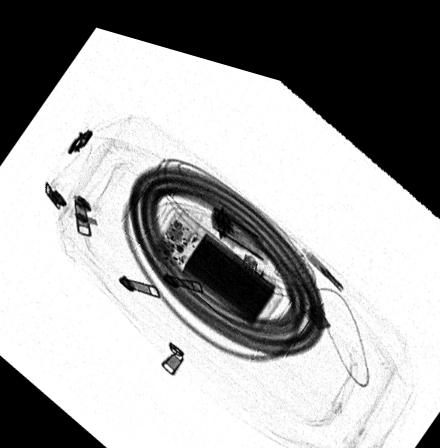Powerbank: (149, 194, 283, 321)
